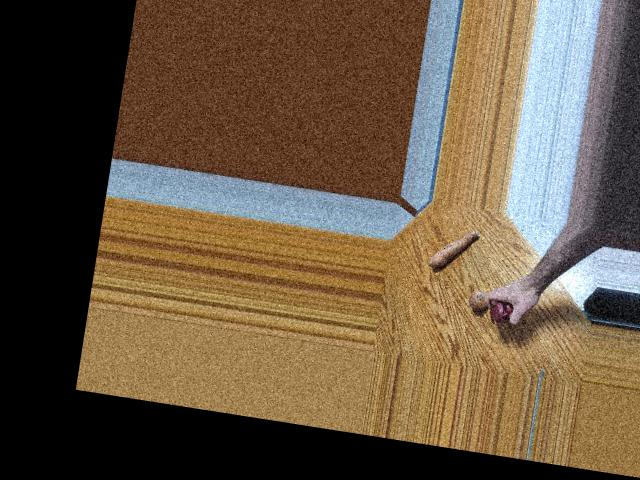onion: (466, 288, 493, 313)
